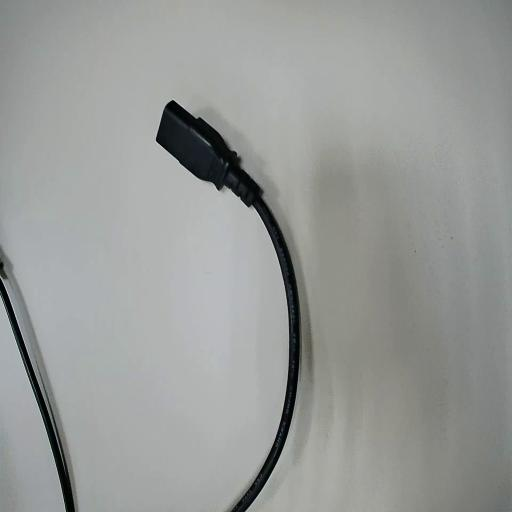wire: (157, 101, 300, 511)
